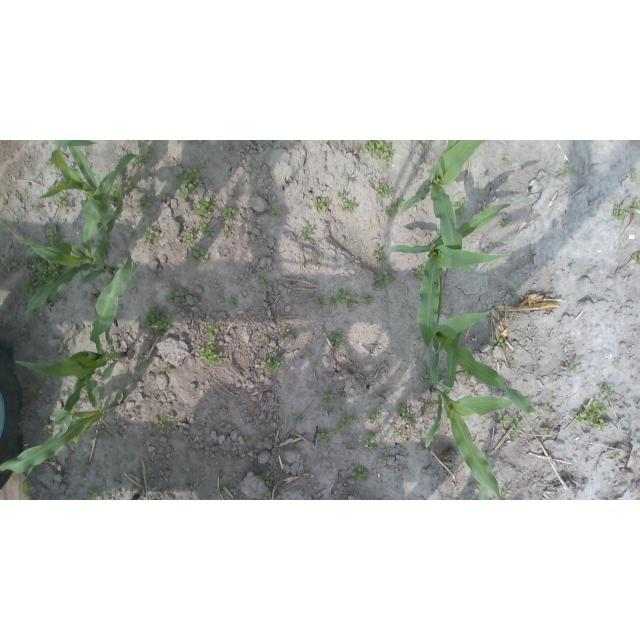Maize: (390, 199, 538, 390), (2, 154, 142, 318), (16, 253, 133, 440), (428, 277, 540, 415), (1, 372, 123, 496), (425, 332, 514, 500), (402, 141, 492, 280), (37, 140, 136, 224)
Weeds: (570, 398, 610, 431), (31, 262, 65, 289), (144, 306, 172, 336), (176, 166, 200, 200), (364, 140, 395, 164), (195, 341, 221, 366), (193, 195, 215, 217), (261, 352, 283, 372), (190, 246, 210, 265), (120, 176, 136, 199), (135, 148, 152, 168), (376, 180, 393, 200), (376, 270, 393, 290), (330, 289, 351, 305), (43, 290, 62, 307), (19, 282, 39, 298), (327, 332, 345, 349), (134, 194, 151, 212), (351, 466, 370, 482), (365, 432, 380, 452), (339, 412, 353, 433), (612, 204, 629, 221), (166, 287, 184, 303), (397, 404, 413, 421), (46, 228, 62, 245), (372, 244, 388, 261), (313, 197, 329, 213), (453, 199, 467, 217), (510, 418, 524, 436), (197, 223, 213, 238), (559, 164, 575, 179), (316, 430, 332, 445), (321, 391, 336, 407), (367, 409, 381, 426), (599, 385, 615, 399), (203, 323, 219, 337), (55, 192, 68, 209), (492, 337, 507, 351), (221, 206, 235, 220), (46, 157, 60, 171), (343, 199, 357, 213), (26, 254, 43, 265), (183, 230, 195, 245), (384, 205, 397, 218), (259, 276, 272, 288), (153, 420, 167, 431), (629, 199, 640, 213), (300, 227, 312, 239), (260, 474, 273, 485), (629, 168, 640, 181), (86, 489, 99, 500), (144, 228, 155, 241), (395, 196, 405, 210), (540, 426, 554, 436), (564, 361, 577, 371), (499, 414, 509, 427), (414, 268, 424, 281), (364, 295, 375, 306), (424, 372, 432, 386), (499, 216, 509, 227), (461, 370, 472, 380), (281, 327, 292, 337), (138, 358, 149, 368), (164, 361, 174, 372), (229, 296, 238, 308), (352, 412, 361, 424), (42, 425, 54, 434), (59, 340, 67, 353), (32, 384, 41, 395), (380, 452, 388, 464), (110, 185, 118, 197), (633, 251, 640, 264), (221, 228, 231, 237), (272, 207, 281, 217), (105, 240, 112, 252), (216, 488, 225, 497), (504, 486, 513, 495), (193, 296, 202, 305), (166, 414, 174, 423), (292, 415, 300, 424), (312, 360, 320, 369), (81, 460, 89, 469), (336, 190, 344, 199), (316, 298, 323, 308), (23, 302, 28, 315), (347, 176, 355, 184), (613, 453, 621, 461), (614, 362, 622, 370), (360, 376, 368, 383), (81, 386, 88, 394), (439, 373, 446, 381), (350, 300, 357, 308), (313, 256, 320, 264), (570, 261, 575, 271), (550, 409, 557, 416), (216, 469, 223, 476), (429, 404, 436, 411), (398, 429, 405, 436), (503, 179, 511, 185), (223, 404, 228, 413), (336, 396, 345, 401), (144, 239, 151, 245), (412, 424, 417, 432), (503, 155, 509, 161), (403, 442, 409, 448), (512, 359, 517, 365), (331, 428, 337, 433), (139, 140, 145, 145), (234, 192, 240, 197), (538, 406, 543, 411), (264, 336, 269, 340), (520, 296, 523, 301)
